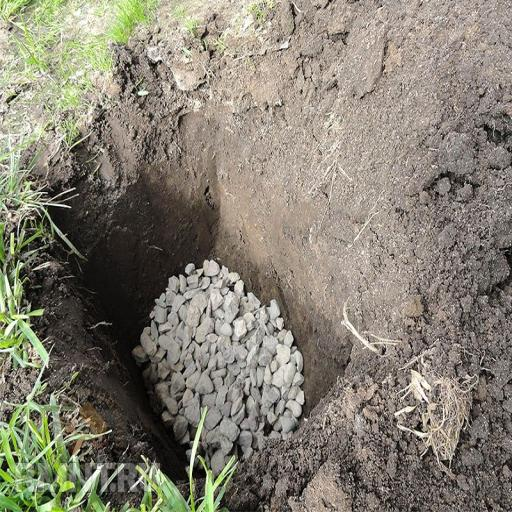entrance: (0, 26, 441, 511)
